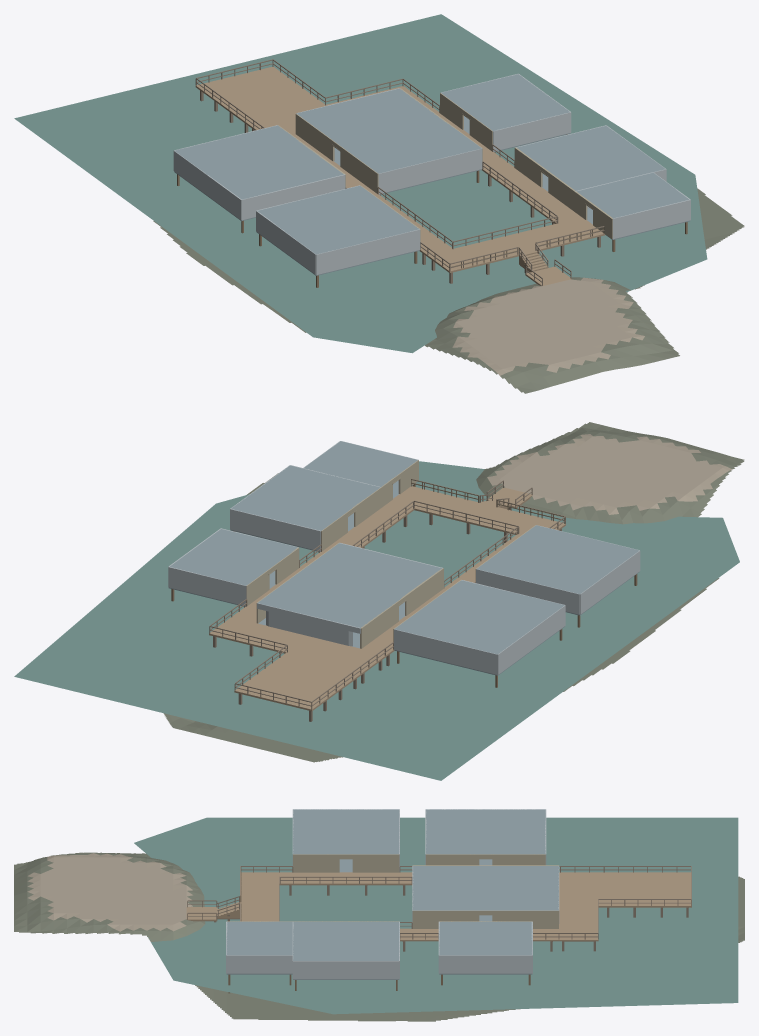
File: marsh-review.glb
3 renders of one model, top to bottom at view 1: azimuth 30°, elevation 25°; view 2: azimuth 150°, elevation 25°; view 3: azimuth 270°, elevation 25°, orthographic. The views are drawn at different scales.
Parts seen in each view (by area): view 1: Mourning Marsh floodwater review surface, WLD-11 saved ground, Mourning Marsh continuous settlement boardwalk region0, Ceiling cap warehouse, Ceiling cap chapel, Ceiling cap house-a, Ceiling cap house-b, Ceiling cap shack, Ceiling cap pump, Wall house-a S, Wall warehouse S, Wall pump S (+6 smaller); view 2: Mourning Marsh floodwater review surface, WLD-11 saved ground, Mourning Marsh continuous settlement boardwalk region0, Ceiling cap warehouse, Ceiling cap chapel, Ceiling cap house-a, Ceiling cap house-b, Ceiling cap shack, Ceiling cap pump, Wall chapel N, Flat route shell Wall warehouse N, Wall house-b N (+6 smaller); view 3: Mourning Marsh floodwater review surface, WLD-11 saved ground, Mourning Marsh continuous settlement boardwalk region0, Ceiling cap warehouse, Ceiling cap chapel, Ceiling cap house-a, Ceiling cap house-b, Ceiling cap shack, Ceiling cap pump, Wall house-b E, Wall shack E, Wall pump E (+7 smaller).
Boxes of the visible parts, left/top/right/bottom form: Mourning Marsh floodwater review surface: left=14, top=14, right=707, bottom=353; WLD-11 saved ground: left=153, top=188, right=744, bottom=393; Mourning Marsh continuous settlement boardwalk region0: left=195, top=66, right=605, bottom=272; Ceiling cap warehouse: left=296, top=88, right=481, bottom=173; Ceiling cap chapel: left=174, top=125, right=343, bottom=199; Ceiling cap house-a: left=258, top=185, right=418, bottom=254; Ceiling cap house-b: left=516, top=125, right=665, bottom=190; Ceiling cap shack: left=441, top=74, right=569, bottom=130; Ceiling cap pump: left=577, top=172, right=688, bottom=218; Wall house-a S: left=316, top=229, right=420, bottom=274; Wall warehouse S: left=378, top=148, right=482, bottom=193; Wall pump S: left=612, top=199, right=690, bottom=239; Mourning Marsh floodwater review surface: left=14, top=461, right=739, bottom=780; WLD-11 saved ground: left=163, top=422, right=744, bottom=762; Mourning Marsh continuous settlement boardwalk region0: left=209, top=486, right=565, bottom=711; Ceiling cap warehouse: left=258, top=543, right=442, bottom=627; Ceiling cap chapel: left=394, top=580, right=564, bottom=654; Ceiling cap house-a: left=477, top=525, right=639, bottom=594; Ceiling cap house-b: left=231, top=465, right=380, bottom=530; Ceiling cap shack: left=170, top=529, right=297, bottom=585; Ceiling cap pump: left=304, top=441, right=417, bottom=486; Wall chapel N: left=394, top=629, right=497, bottom=674; Flat route shell Wall warehouse N: left=257, top=603, right=360, bottom=646; Wall house-b N: left=230, top=509, right=320, bottom=551; Mourning Marsh floodwater review surface: left=134, top=817, right=738, bottom=1014; WLD-11 saved ground: left=14, top=852, right=744, bottom=1021; Mourning Marsh continuous settlement boardwalk region0: left=240, top=872, right=691, bottom=941; Ceiling cap warehouse: left=412, top=866, right=558, bottom=910; Ceiling cap chapel: left=426, top=809, right=545, bottom=854; Ceiling cap house-a: left=293, top=809, right=399, bottom=854; Ceiling cap house-b: left=293, top=921, right=399, bottom=960; Ceiling cap shack: left=439, top=921, right=532, bottom=955; Ceiling cap pump: left=226, top=921, right=292, bottom=955; Wall house-b E: left=293, top=961, right=399, bottom=979; Wall shack E: left=439, top=955, right=532, bottom=973; Wall pump E: left=226, top=955, right=292, bottom=973.
Bounding box in the file's own units: 70 × 7.53 × 110.
